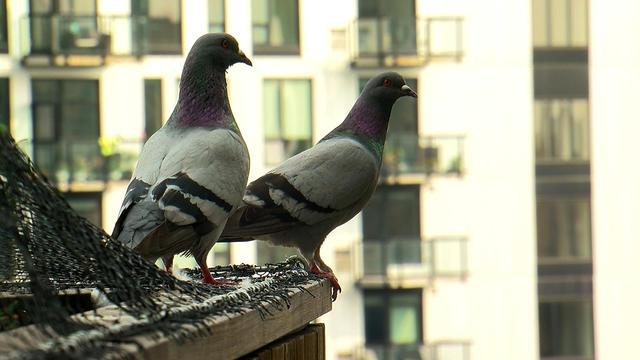Flying Rat: (112, 35, 250, 320), (250, 63, 416, 298)
